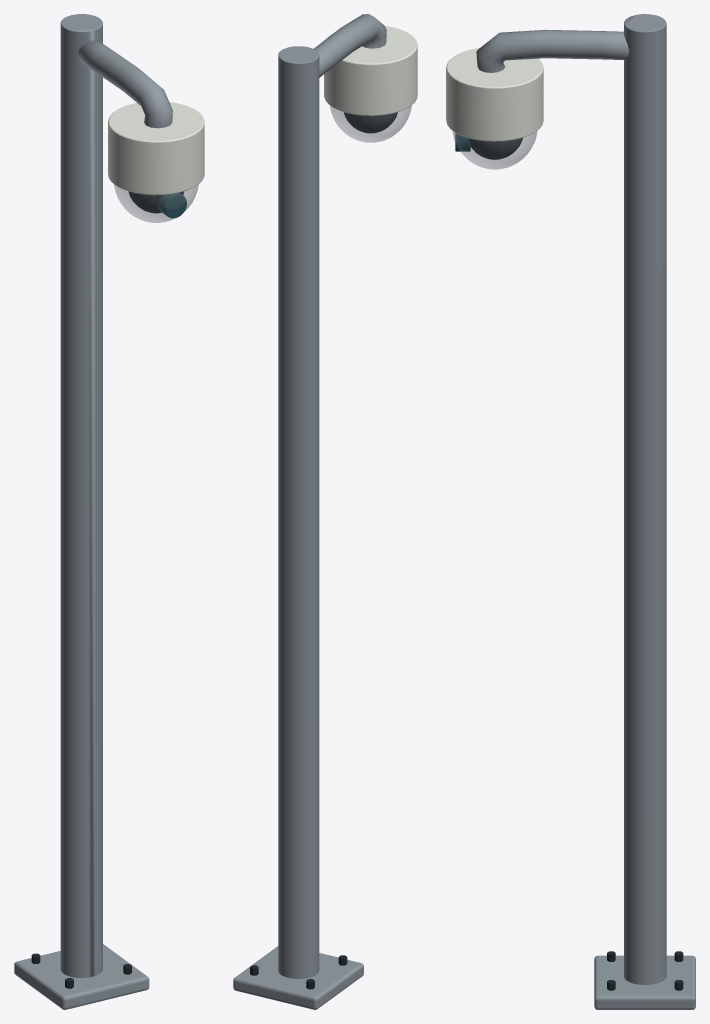
File: pan-tilt-zoom-camera-on-pole.glb
3 renders of one model, left to right at view 1: azimuth 30°, elevation 25°; view 2: azimuth 150°, elevation 25°; view 3: azimuth 270°, elevation 25°, orthographic. The views are drawn at different scales.
Visible parts, largest first — view 1: Camera pole, PTZ upper housing, Pole anchor plate, Camera pole arm, PTZ dark dome, PTZ camera lens, PTZ pan tilt module; view 2: Camera pole, PTZ upper housing, Pole anchor plate, Camera pole arm, PTZ dark dome, PTZ pan tilt module; view 3: Camera pole, PTZ upper housing, Camera pole arm, Pole anchor plate, PTZ dark dome, PTZ pan tilt module.
Boxes of the visible parts, left/top/right/bottom form: Camera pole: left=60, top=14, right=102, bottom=977; PTZ upper housing: left=108, top=102, right=204, bottom=195; Pole anchor plate: left=14, top=944, right=149, bottom=1009; Camera pole arm: left=77, top=40, right=172, bottom=128; PTZ dark dome: left=114, top=184, right=198, bottom=222; PTZ camera lens: left=157, top=193, right=186, bottom=218; PTZ pan tilt module: left=128, top=191, right=184, bottom=213; Camera pole: left=278, top=46, right=319, bottom=978; PTZ upper housing: left=324, top=26, right=417, bottom=115; Pole anchor plate: left=233, top=946, right=363, bottom=1009; Camera pole arm: left=314, top=14, right=386, bottom=77; PTZ dark dome: left=330, top=105, right=411, bottom=142; PTZ pan tilt module: left=343, top=112, right=397, bottom=133; Camera pole: left=624, top=14, right=666, bottom=984; PTZ upper housing: left=446, top=48, right=543, bottom=141; Camera pole arm: left=476, top=29, right=629, bottom=72; Pole anchor plate: left=594, top=955, right=695, bottom=1009; PTZ dark dome: left=452, top=131, right=537, bottom=169; PTZ pan tilt module: left=468, top=138, right=522, bottom=159.
Size of the model in its own units: 0.27 by 2.84 by 0.665.
5 materials, 5 textured.
